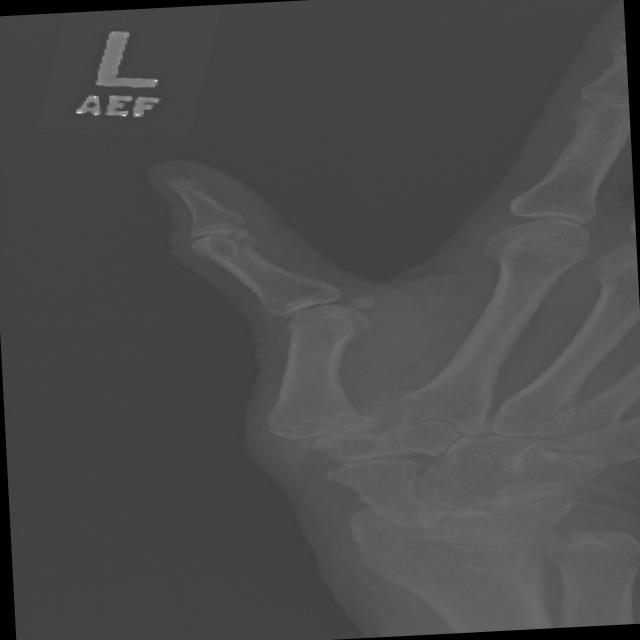fingers positive: (172, 212, 271, 284), (275, 292, 393, 348)
